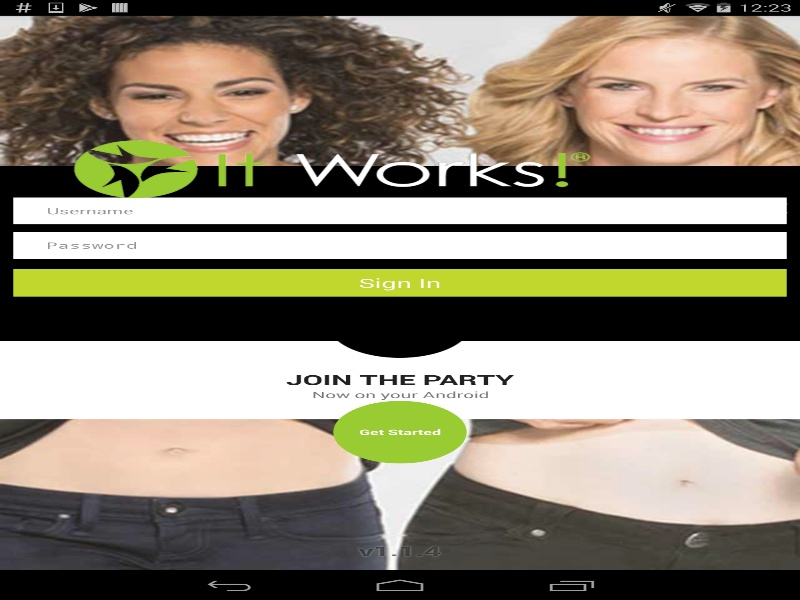Input: (46, 197, 786, 224), (46, 231, 786, 258)
